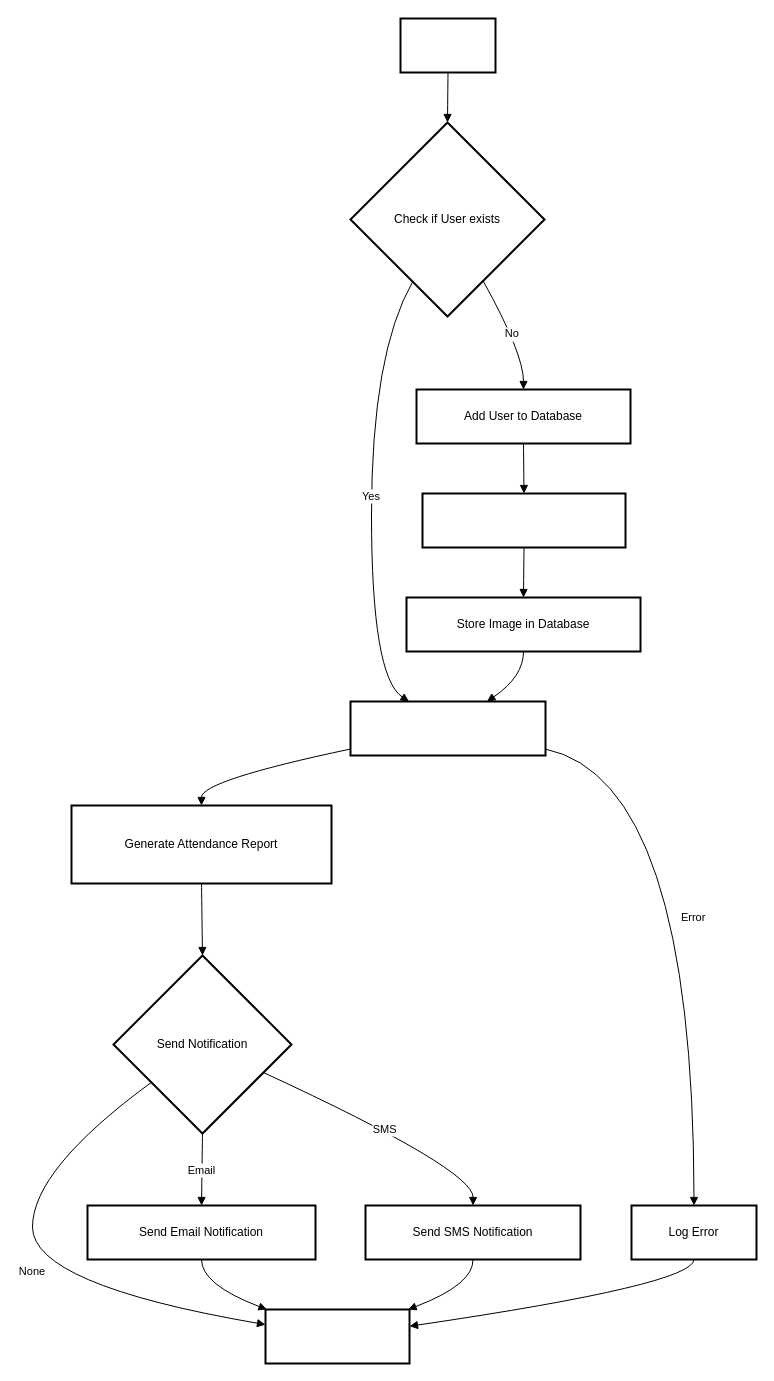
The diagram is 774 pixels wide and 1381 high, and some of its shapes have lost their labels. Here are the shapes that lost their labels. From the top down, the centre of each, then its label:
(447,45): Start
(523,520): Capture Face Image
(447,728): Record Attendance
(337,1336): End Process
